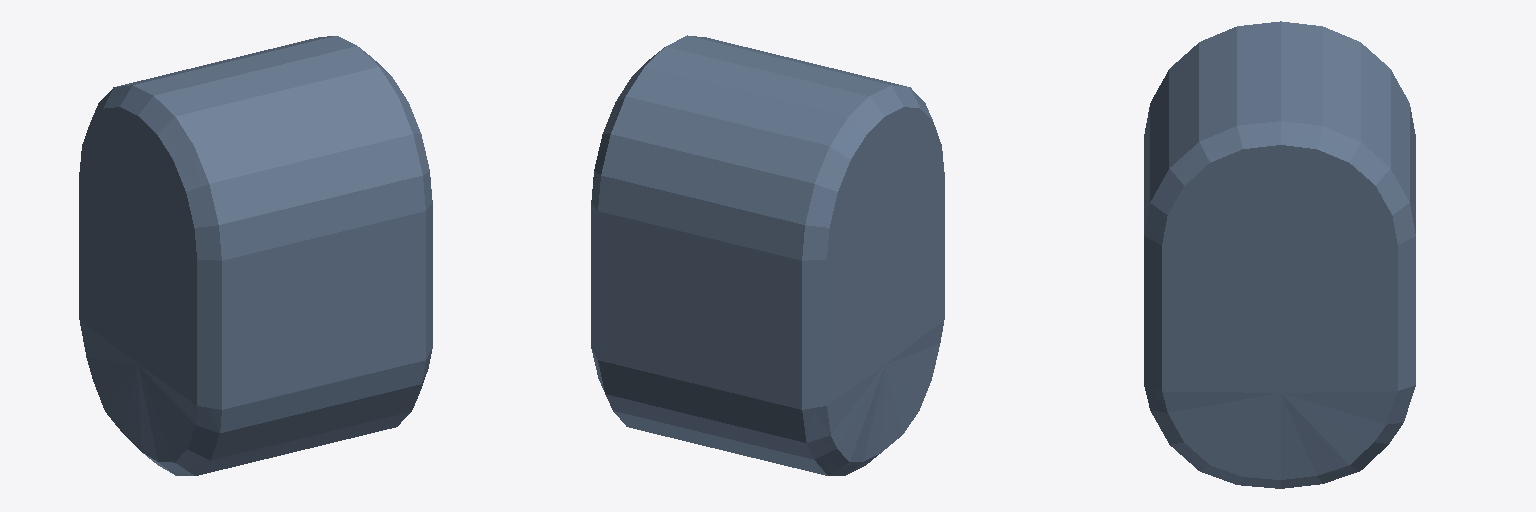
3 views of the same model, side by side, from view 1: azimuth 30°, elevation 25°; view 2: azimuth 150°, elevation 25°; view 3: azimuth 270°, elevation 25° (orthographic).
Visible parts, largest first — view 1: Onett3; view 2: Onett3; view 3: Onett3.
Boxes of the visible parts, <box> form: Onett3: <box>79,36,432,475</box>; Onett3: <box>591,35,944,475</box>; Onett3: <box>1144,21,1415,488</box>.
Size of the model in its own units: 1 by 1.5 by 1.
Materials: 1 (1 with a texture image).